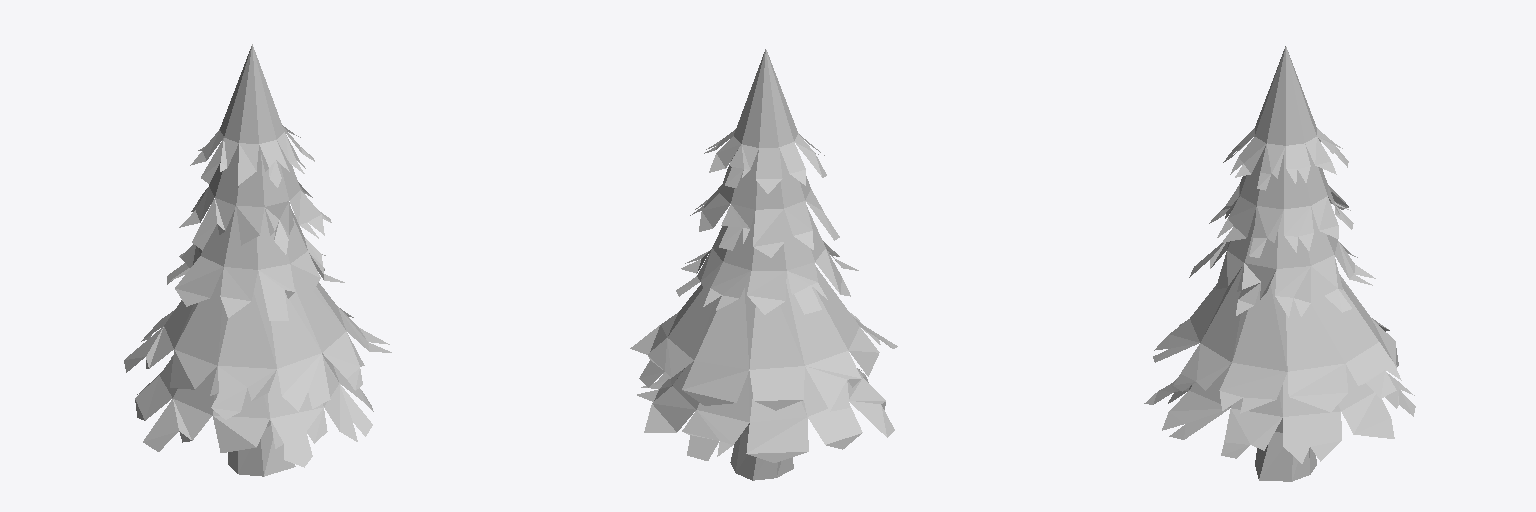
Rendered from pine.obj.
3 views of the same model, side by side, from view 1: azimuth 30°, elevation 25°; view 2: azimuth 150°, elevation 25°; view 3: azimuth 270°, elevation 25° (orthographic).
Parts seen in each view (by area): view 1: pineTree_grp pPlane5, pineTree_grp pPlane2, pPlane3 pineTree_grp, pineTree_grp pPlane6, pineTree_grp pPlane4, pineTree_grp pCylinder1; view 2: pineTree_grp pPlane5, pineTree_grp pPlane2, pPlane3 pineTree_grp, pineTree_grp pPlane4, pineTree_grp pPlane6, pineTree_grp pCylinder1; view 3: pineTree_grp pPlane5, pineTree_grp pPlane2, pPlane3 pineTree_grp, pineTree_grp pPlane6, pineTree_grp pPlane4, pineTree_grp pCylinder1.
Part boxes in pixels (x1,y1,x2,y2): pineTree_grp pPlane5: (124,264,391,419); pineTree_grp pPlane2: (135,353,373,467); pPlane3 pineTree_grp: (167,206,344,320); pineTree_grp pPlane6: (179,141,331,254); pineTree_grp pPlane4: (190,44,314,187); pineTree_grp pCylinder1: (228,420,295,476); pineTree_grp pPlane5: (630,264,897,411); pineTree_grp pPlane2: (637,361,894,462); pPlane3 pineTree_grp: (676,207,858,314); pineTree_grp pPlane4: (704,49,826,193); pineTree_grp pPlane6: (690,148,839,257); pineTree_grp pCylinder1: (730,423,793,480); pineTree_grp pPlane5: (1153,265,1401,413); pineTree_grp pPlane2: (1144,363,1415,463); pPlane3 pineTree_grp: (1189,206,1375,317); pineTree_grp pPlane6: (1209,143,1353,257); pineTree_grp pPlane4: (1223,46,1348,190); pineTree_grp pCylinder1: (1255,418,1316,481).
Bounding box in the file's own units: 8.32 × 14.37 × 8.41.